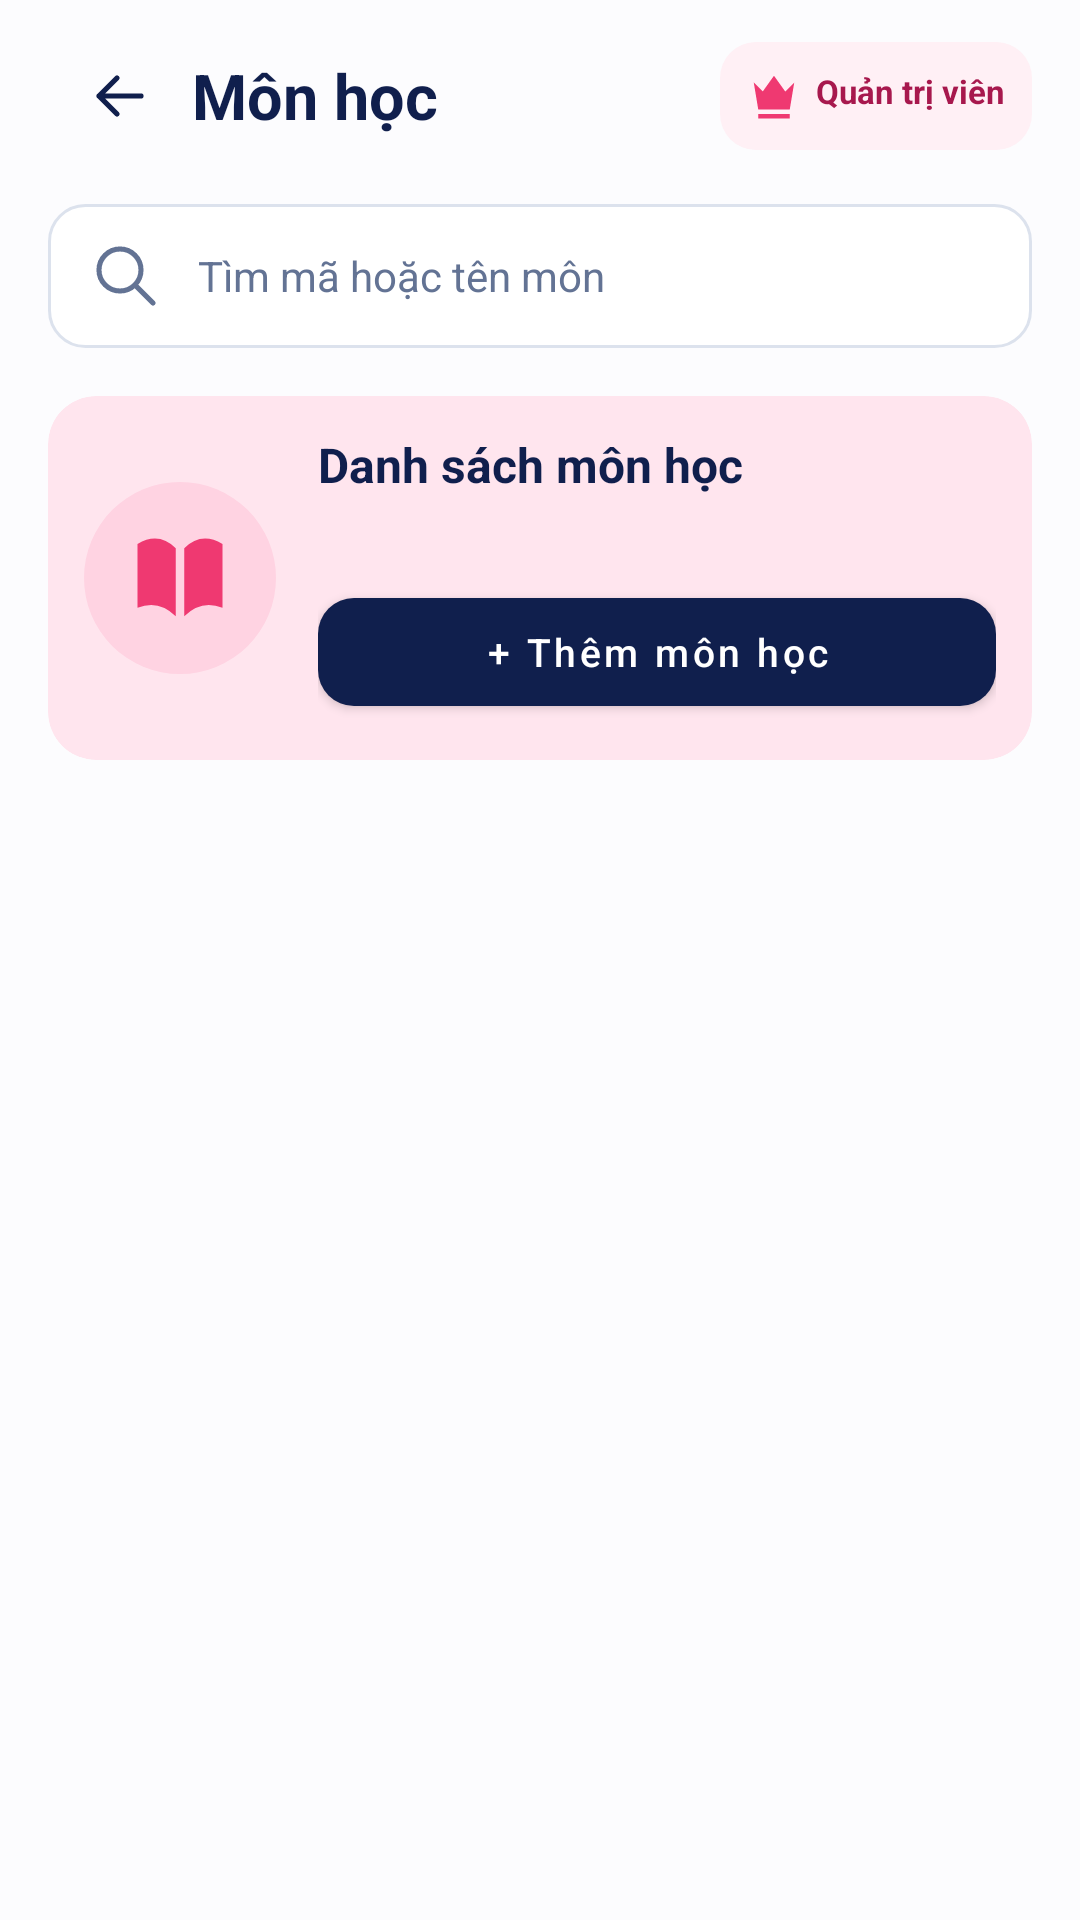

Icon click points for this 1080×1920 phone screenshot, format (x=x, y=y):
Quay lại: (x=120, y=96)
subject book: (x=180, y=577)
